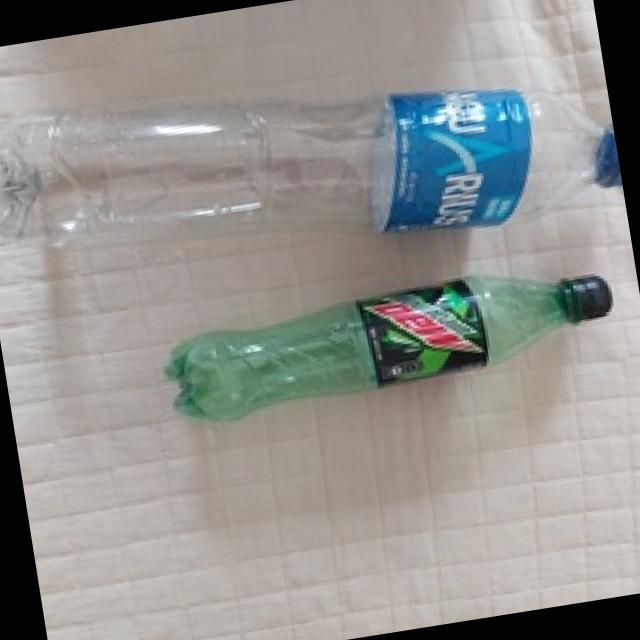good: (0, 11, 626, 307), (151, 232, 631, 442)
